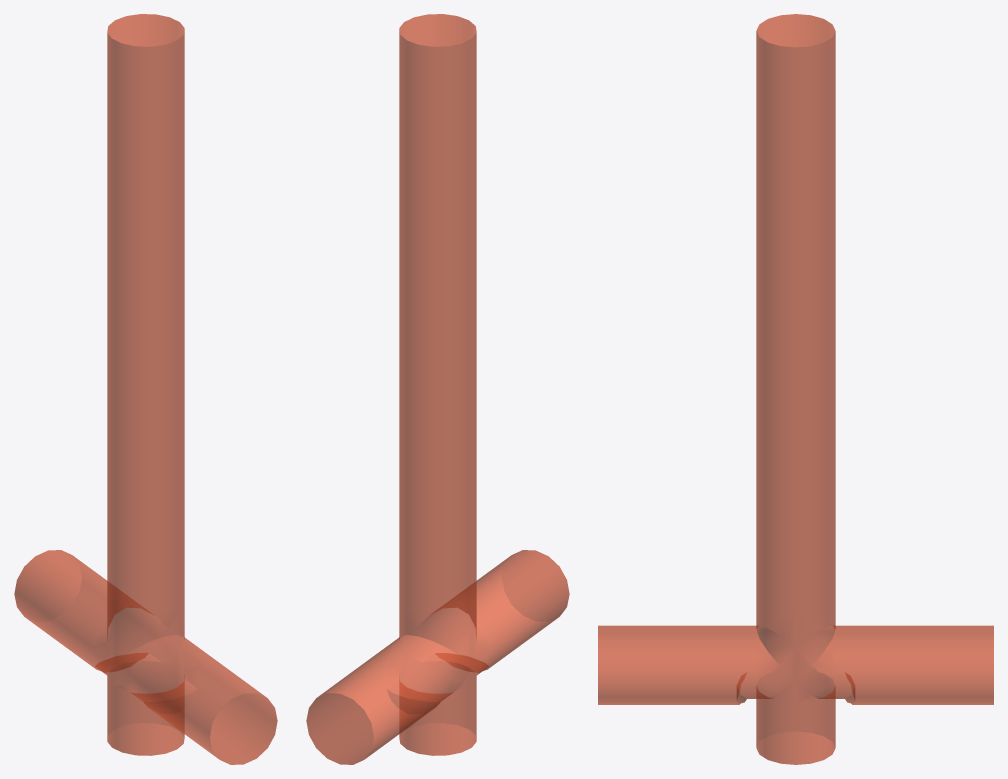
File: blade with crossbars.dae
The picture shows the model from 3 angles, left to right: view 1: azimuth 30°, elevation 25°; view 2: azimuth 150°, elevation 25°; view 3: azimuth 270°, elevation 25°; orthographic projection.
Parts seen in each view (by area): view 1: Object; view 2: Object; view 3: Object.
Part boxes in pixels (x1,y1,x2,y2): Object: [14, 14, 277, 764]; Object: [306, 14, 569, 764]; Object: [598, 14, 993, 764].
Size of the model in its own units: 3.2 by 16 by 32.
